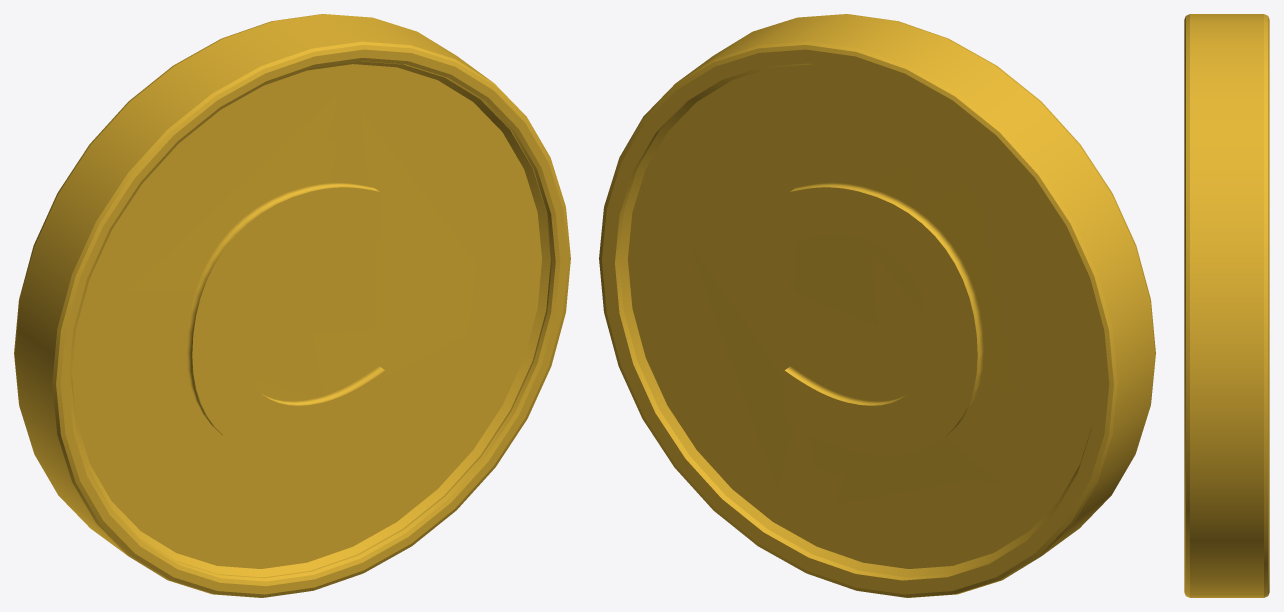
File: Coin.glb
The picture shows the model from 3 angles, left to right: view 1: azimuth 30°, elevation 25°; view 2: azimuth 150°, elevation 25°; view 3: azimuth 270°, elevation 25°; orthographic projection. The views are drawn at different scales.
Parts seen in each view (by area): view 1: CoinMesh; view 2: CoinMesh; view 3: CoinMesh.
Part boxes in pixels (<box>): CoinMesh: <box>14,14,570,597</box>; CoinMesh: <box>599,14,1155,597</box>; CoinMesh: <box>1184,14,1269,597</box>.
Size of the model in its own units: 0.26 by 0.26 by 0.0381.
